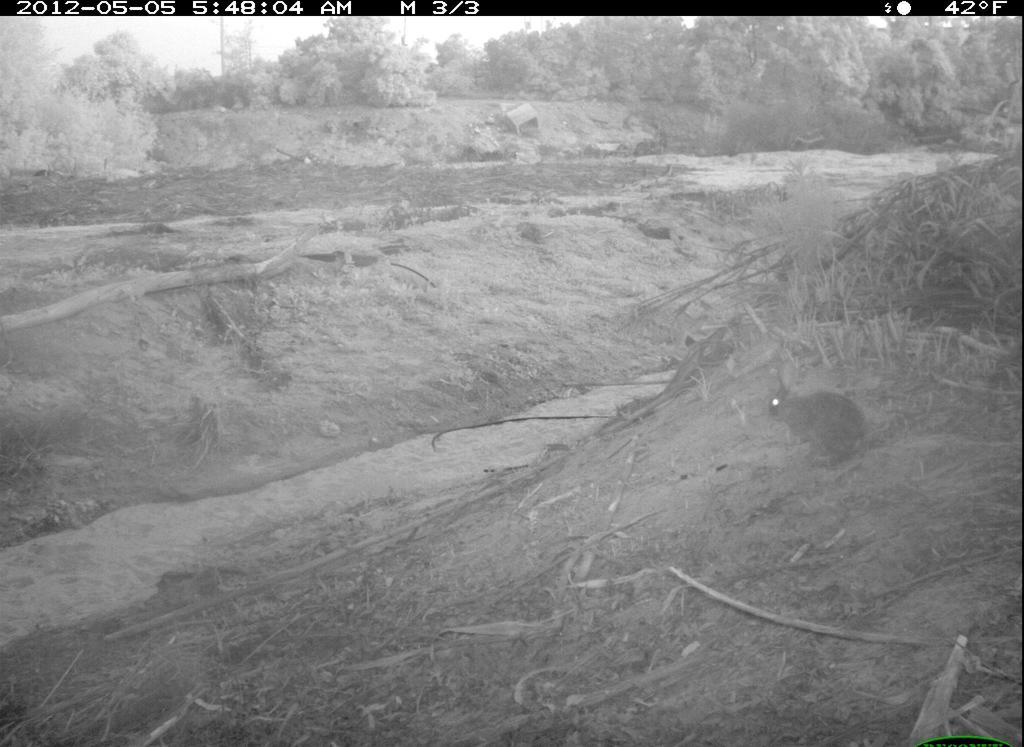rabbit: (761, 346, 877, 477)
